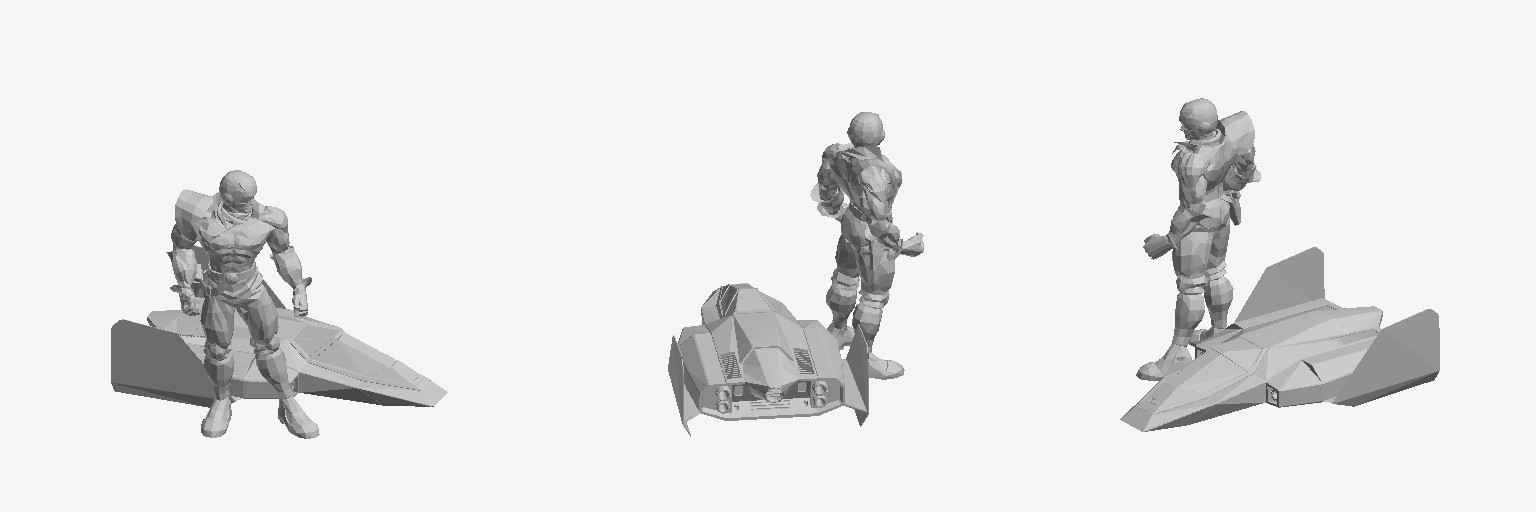
3 renders of one model, left to right at view 1: azimuth 30°, elevation 25°; view 2: azimuth 150°, elevation 25°; view 3: azimuth 270°, elevation 25°, orthographic.
Visible parts, largest first — view 1: Joint_9_Object_3_SINGLE, Joint_6_Object_20_SINGLE, Joint_5_Object_9_SINGLE, Joint_10_Object_6_SINGLE, Joint_5_Object_5_SINGLE, Joint_10_Object_9_SINGLE, Joint_5_Object_39_SINGLE, Joint_6_Object_19_SINGLE, Joint_5_Object_13_SINGLE, Joint_5_Object_14_SINGLE, Joint_9_Object_4_SINGLE, Joint_5_Object_16_SINGLE (+9 smaller); view 2: Joint_6_Object_13_SINGLE, Joint_6_Object_20_SINGLE, Joint_5_Object_7_SINGLE, Joint_6_Object_14_SINGLE, Joint_5_Object_18_SINGLE, Joint_5_Object_6_SINGLE, Joint_9_Object_3_SINGLE, Joint_5_Object_24_SINGLE, Joint_5_Object_13_SINGLE, Joint_5_Object_2_SINGLE, Joint_5_Object_9_SINGLE, Joint_5_Object_16_SINGLE (+5 smaller); view 3: Joint_6_Object_13_SINGLE, Joint_9_Object_0_SINGLE, Joint_9_Object_3_SINGLE, Joint_5_Object_7_SINGLE, Joint_6_Object_12_SINGLE, Joint_6_Object_20_SINGLE, Joint_10_Object_5_SINGLE, Joint_10_Object_8_SINGLE, Joint_5_Object_16_SINGLE, Joint_5_Object_6_SINGLE, Joint_5_Object_13_SINGLE, Joint_5_Object_9_SINGLE (+10 smaller).
Boxes of the visible parts, x1,y1,x2,y2 form: Joint_9_Object_3_SINGLE: [111, 321, 235, 407]; Joint_6_Object_20_SINGLE: [147, 313, 433, 406]; Joint_5_Object_9_SINGLE: [207, 274, 277, 360]; Joint_10_Object_6_SINGLE: [293, 332, 392, 374]; Joint_5_Object_5_SINGLE: [199, 204, 274, 272]; Joint_10_Object_9_SINGLE: [287, 331, 425, 390]; Joint_5_Object_39_SINGLE: [175, 189, 212, 240]; Joint_6_Object_19_SINGLE: [245, 339, 307, 398]; Joint_5_Object_13_SINGLE: [255, 347, 291, 399]; Joint_5_Object_14_SINGLE: [278, 396, 319, 438]; Joint_9_Object_4_SINGLE: [111, 319, 129, 381]; Joint_5_Object_16_SINGLE: [256, 206, 289, 255]; Joint_6_Object_13_SINGLE: [680, 287, 817, 420]; Joint_6_Object_20_SINGLE: [754, 292, 844, 415]; Joint_5_Object_7_SINGLE: [831, 206, 894, 308]; Joint_6_Object_14_SINGLE: [703, 380, 839, 412]; Joint_5_Object_18_SINGLE: [859, 167, 888, 236]; Joint_5_Object_6_SINGLE: [829, 146, 882, 221]; Joint_9_Object_3_SINGLE: [846, 324, 868, 426]; Joint_5_Object_24_SINGLE: [849, 112, 882, 146]; Joint_5_Object_13_SINGLE: [826, 283, 856, 328]; Joint_5_Object_2_SINGLE: [852, 302, 882, 352]; Joint_5_Object_9_SINGLE: [841, 210, 863, 290]; Joint_5_Object_16_SINGLE: [817, 143, 843, 200]; Joint_6_Object_13_SINGLE: [1142, 308, 1382, 431]; Joint_9_Object_0_SINGLE: [1332, 311, 1439, 406]; Joint_9_Object_3_SINGLE: [1234, 249, 1311, 322]; Joint_5_Object_7_SINGLE: [1176, 193, 1229, 294]; Joint_6_Object_12_SINGLE: [1254, 349, 1320, 407]; Joint_6_Object_20_SINGLE: [1120, 298, 1376, 419]; Joint_10_Object_5_SINGLE: [1172, 343, 1261, 392]; Joint_10_Object_8_SINGLE: [1144, 341, 1268, 414]; Joint_5_Object_16_SINGLE: [1177, 152, 1209, 213]; Joint_5_Object_6_SINGLE: [1174, 130, 1237, 202]; Joint_5_Object_13_SINGLE: [1172, 293, 1204, 346]; Joint_5_Object_9_SINGLE: [1172, 198, 1228, 283].
Size of the model in its own units: 22.39 by 22.08 by 25.18.